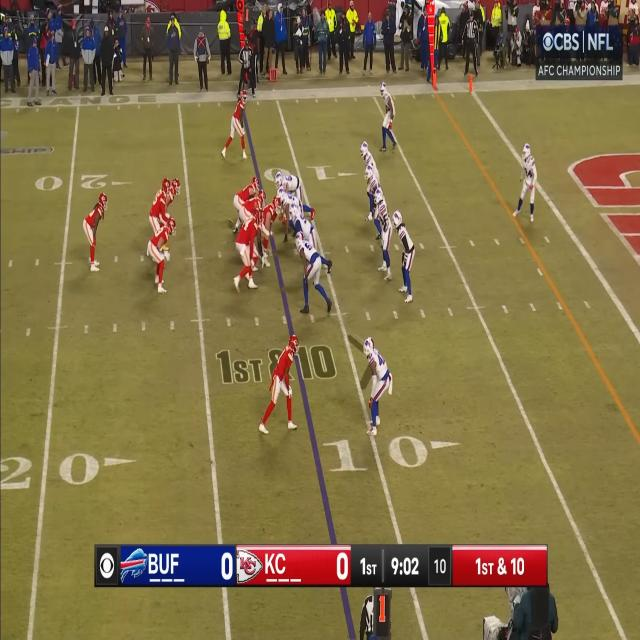Ball: (227, 218, 234, 229)
